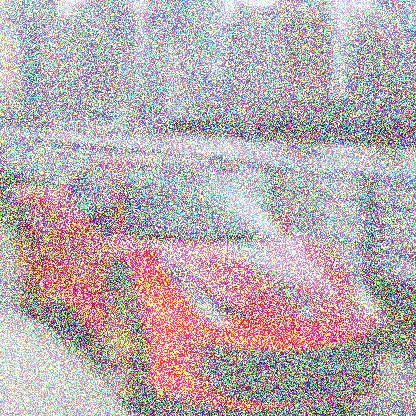Vehicle: (9, 147, 388, 416)
